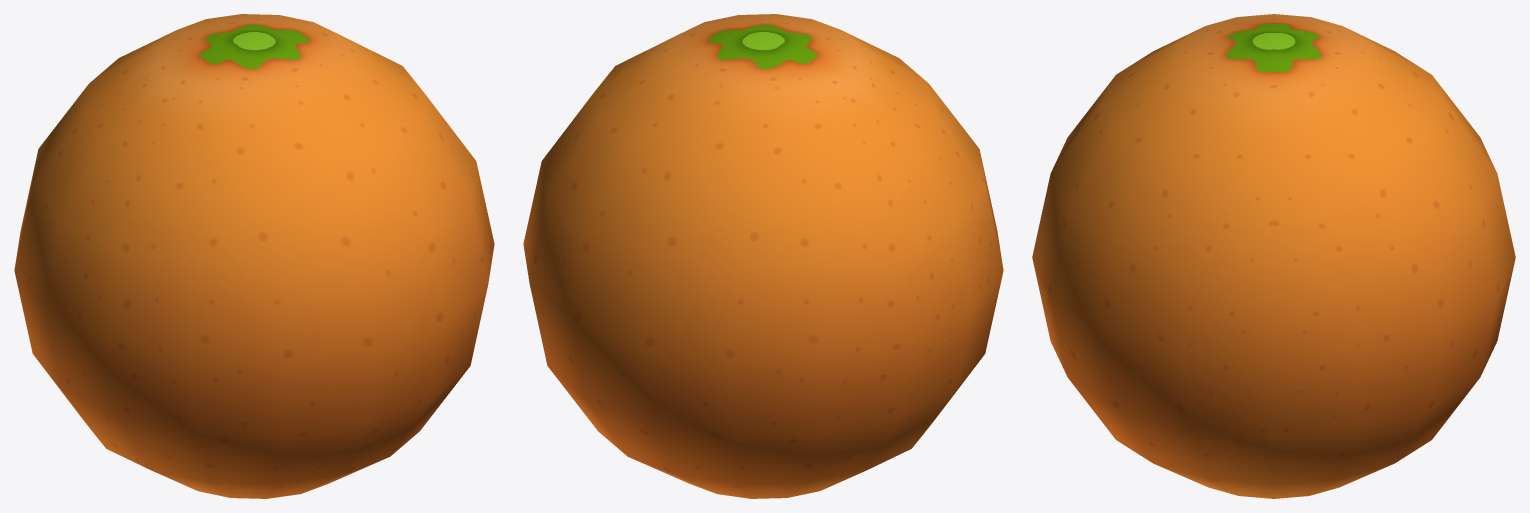
Rendered from orange.FBX.
The picture shows the model from 3 angles, left to right: view 1: azimuth 30°, elevation 25°; view 2: azimuth 150°, elevation 25°; view 3: azimuth 270°, elevation 25°; orthographic projection.
Parts seen in each view (by area): view 1: orange; view 2: orange; view 3: orange.
Boxes of the visible parts, x1,y1,x2,y2 form: orange: (14, 14, 494, 498); orange: (523, 14, 1003, 498); orange: (1032, 14, 1515, 498).
Size of the model in its own units: 33.85 by 33.91 by 33.85.
